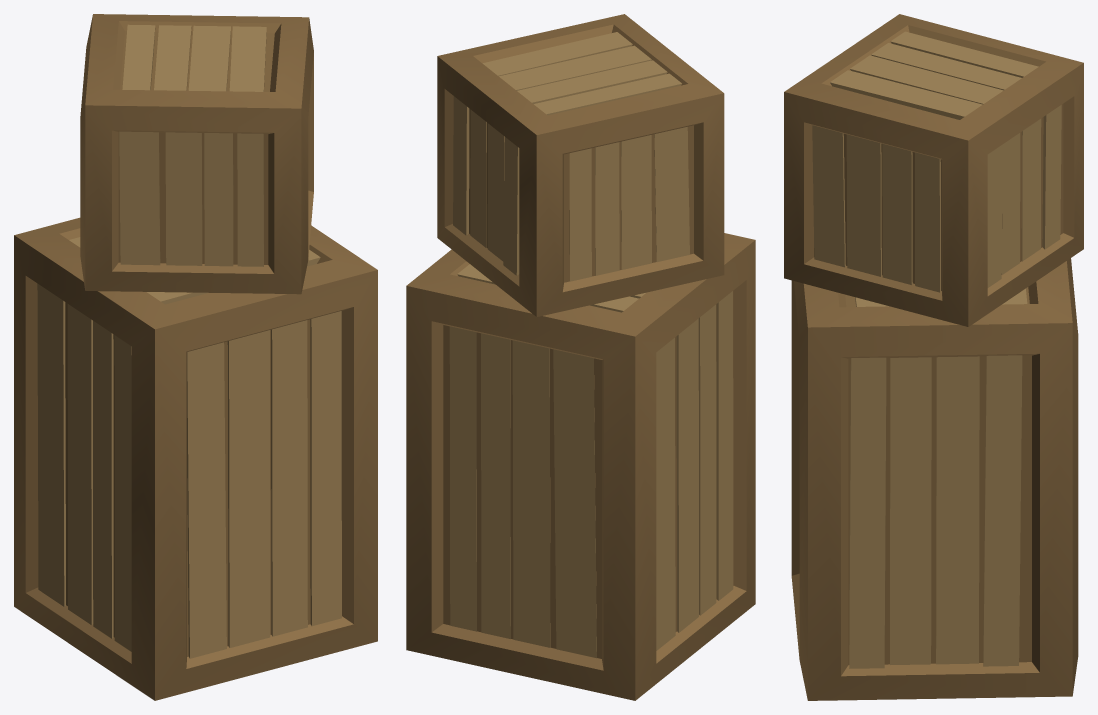
Rendered from Crate_Stack2.glb.
The picture shows the model from 3 angles, left to right: view 1: azimuth 30°, elevation 25°; view 2: azimuth 150°, elevation 25°; view 3: azimuth 270°, elevation 25°; orthographic projection. The views are drawn at different scales.
Parts seen in each view (by area): view 1: Crate_Stack2; view 2: Crate_Stack2; view 3: Crate_Stack2.
Part boxes in pixels (x1,y1,x2,y2): Crate_Stack2: (14,14,377,700); Crate_Stack2: (406,14,755,700); Crate_Stack2: (784,14,1083,700).
Size of the model in its own units: 0.1198 by 0.2543 by 0.1198.
